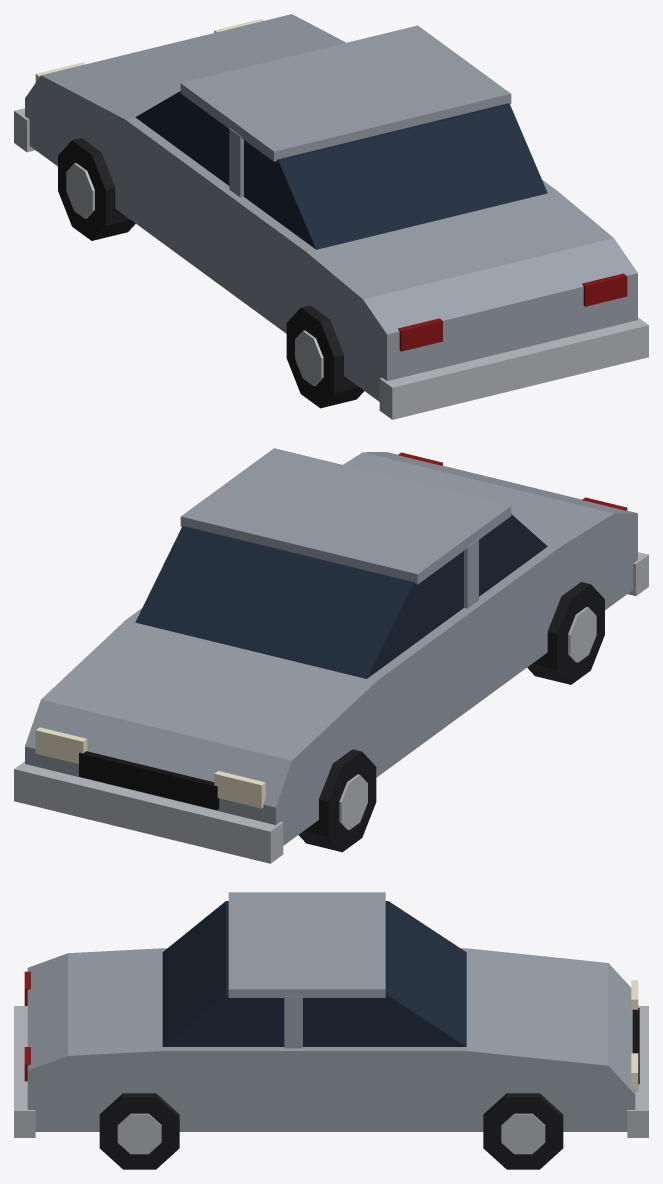
File: CarSedanSilver.obj
3 renders of one model, top to bottom at view 1: azimuth 30°, elevation 25°; view 2: azimuth 150°, elevation 25°; view 3: azimuth 270°, elevation 25°, orthographic. The views are drawn at different scales.
Parts seen in each view (by area): view 1: CarSedanSilver; view 2: CarSedanSilver; view 3: CarSedanSilver.
Boxes of the visible parts, bbox=[...] form: CarSedanSilver: bbox=[14, 14, 648, 419]; CarSedanSilver: bbox=[14, 448, 648, 863]; CarSedanSilver: bbox=[14, 892, 648, 1169].
Bounding box in the file's own units: 1.97 × 1.42 × 4.7.
Materials: 1 (1 with a texture image).
